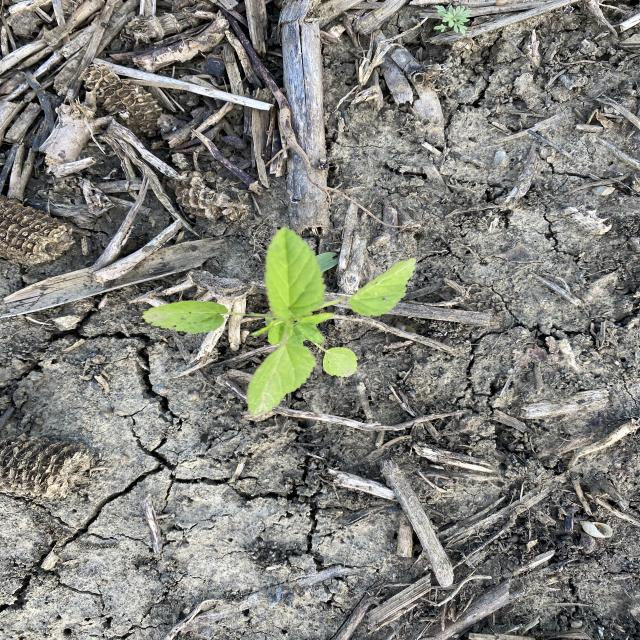PricklySida: (140, 225, 418, 420)
Ragweed: (432, 2, 474, 36)
